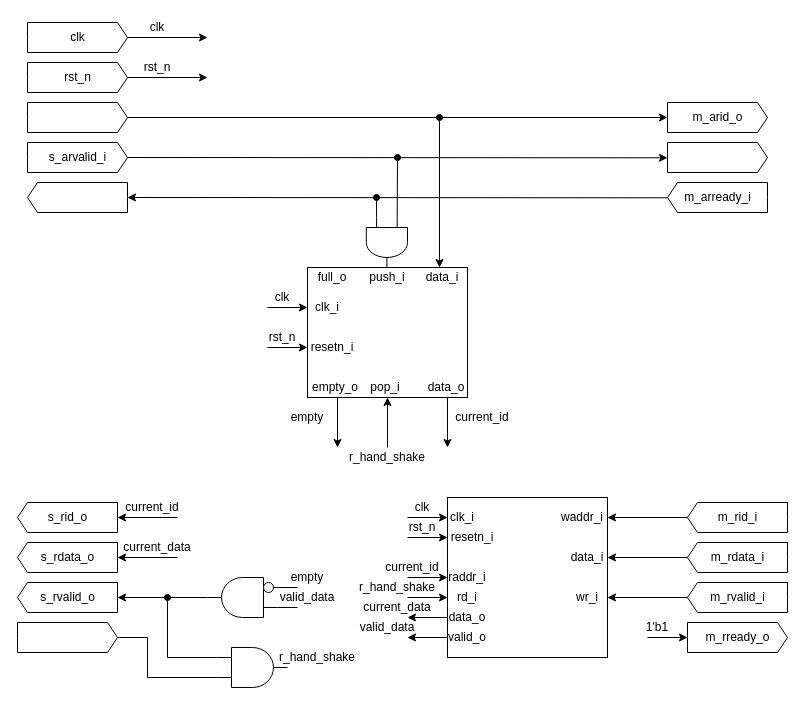
This 805x705 diagram has some shape labels left out. The shapes that lost their labels are listed below. From the top down, each one's box as (x1, y1, x2, y2) in pixels, then its label:
(26, 102, 128, 132): s_arid_i
(666, 142, 768, 172): m_arvalid_o
(26, 182, 128, 212): s_arready_o
(306, 266, 468, 398): FIFO
(446, 496, 608, 658): Memory
(16, 622, 118, 652): s_rready_i
